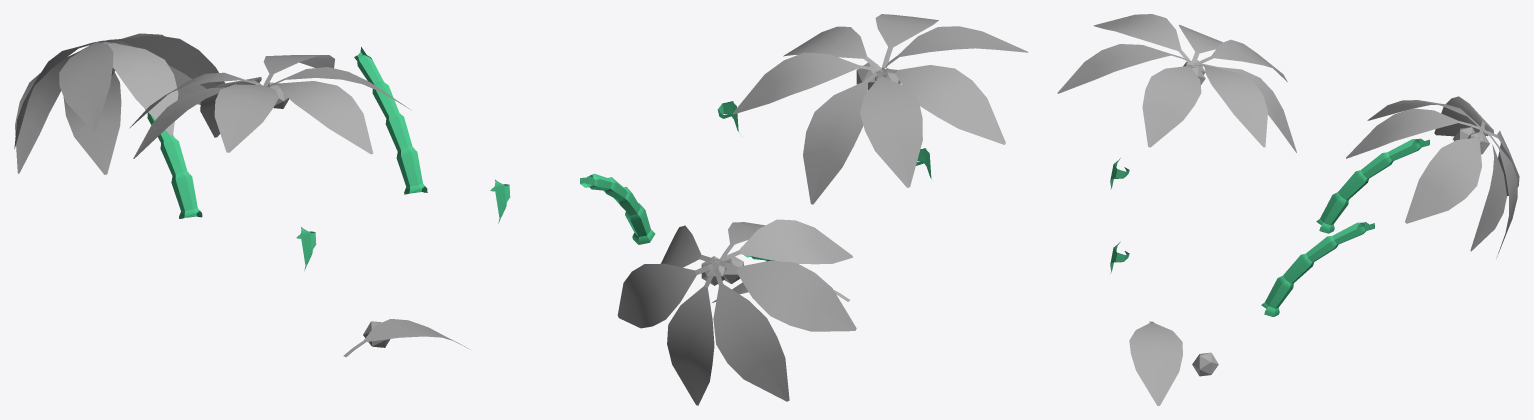
File: Palmeras.fbx
3 views of the same model, side by side, from view 1: azimuth 30°, elevation 25°; view 2: azimuth 150°, elevation 25°; view 3: azimuth 270°, elevation 25° (orthographic). The views are drawn at different scales.
Visible parts, largest first — view 1: Hojas_Palmera (×2), Hojas_Palmera8, Hojas_Palmera3, Hojas_Palmera4, Palmera_2, Hojas_Palmera10, Hojas_Palmera11, Hojas_Palmera7, Palmera, Hojas_Palmera5, Hojas, Hojas_Palmera6 (+4 smaller); view 2: Hojas_Palmera9, Hojas_Palmera11, Hojas_Palmera1, Hojas_Palmera2, Hojas_Palmera5, Hojas_Palmera10, Hojas_Palmera (×2), Hojas_Palmera12, Hojas_Palmera8, Hojas_Palmera4, Palmera_2, Hojas_Palmera6 (+2 smaller); view 3: Hojas_Palmera (×2), Hojas_Palmera7, Hojas_Palmera6, Hojas, Hojas_Palmera3, Palmera, Palmera_2, Hojas_Palmera4, Hojas_Palmera12, Hojas_Palmera2, Hojas_Palmera9, Hojas_Palmera1 (+5 smaller).
Part boxes in pixels (left/top/right/bottom): Hojas_Palmera (×2): left=101, top=42, right=334, bottom=135; Hojas_Palmera8: left=59, top=41, right=113, bottom=131; Hojas_Palmera3: left=266, top=81, right=373, bottom=154; Hojas_Palmera4: left=214, top=84, right=278, bottom=152; Palmera_2: left=354, top=47, right=427, bottom=194; Hojas_Palmera10: left=63, top=72, right=121, bottom=174; Hojas_Palmera11: left=15, top=48, right=84, bottom=173; Hojas_Palmera7: left=100, top=35, right=224, bottom=88; Palmera: left=145, top=109, right=202, bottom=218; Hojas_Palmera5: left=133, top=87, right=226, bottom=158; Hojas: left=343, top=319, right=470, bottom=357; Hojas_Palmera6: left=267, top=67, right=411, bottom=110; Hojas_Palmera9: left=716, top=259, right=856, bottom=331; Hojas_Palmera11: left=712, top=262, right=789, bottom=401; Hojas_Palmera1: left=860, top=70, right=922, bottom=187; Hojas_Palmera2: left=803, top=69, right=883, bottom=204; Hojas_Palmera5: left=882, top=65, right=1005, bottom=144; Hojas_Palmera10: left=667, top=262, right=719, bottom=405; Hojas_Palmera (×2): left=720, top=52, right=881, bottom=258; Hojas_Palmera12: left=617, top=260, right=719, bottom=328; Hojas_Palmera8: left=714, top=219, right=852, bottom=264; Hojas_Palmera4: left=881, top=26, right=1028, bottom=70; Palmera_2: left=580, top=173, right=655, bottom=244; Hojas_Palmera6: left=783, top=26, right=881, bottom=69; Hojas_Palmera (×2): left=1196, top=65, right=1479, bottom=158; Hojas_Palmera7: left=1405, top=130, right=1483, bottom=223; Hojas_Palmera6: left=1142, top=64, right=1201, bottom=147; Hojas: left=1129, top=321, right=1182, bottom=405; Hojas_Palmera3: left=1057, top=44, right=1191, bottom=93; Palmera: left=1316, top=138, right=1429, bottom=233; Palmera_2: left=1261, top=222, right=1374, bottom=316; Hojas_Palmera4: left=1093, top=14, right=1193, bottom=65; Hojas_Palmera12: left=1470, top=129, right=1506, bottom=251; Hojas_Palmera2: left=1193, top=63, right=1296, bottom=152; Hojas_Palmera9: left=1434, top=96, right=1493, bottom=136; Hojas_Palmera1: left=1193, top=39, right=1287, bottom=81.
Bounding box in the file's own units: 1464 × 1336 × 1992.
Materials: 3 (1 with a texture image).
